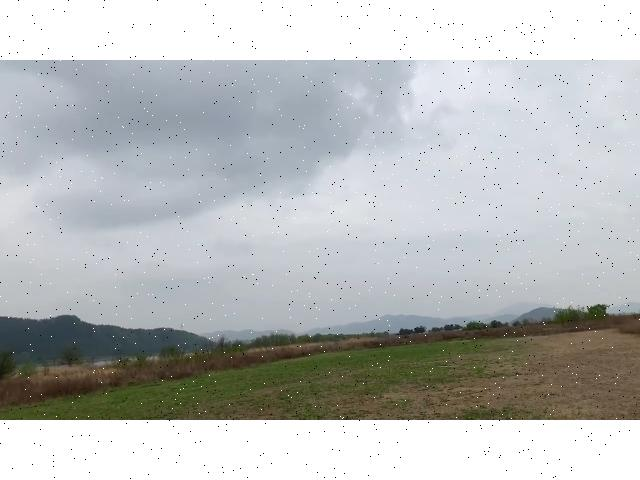Anti-Drone: (369, 254, 389, 269)
